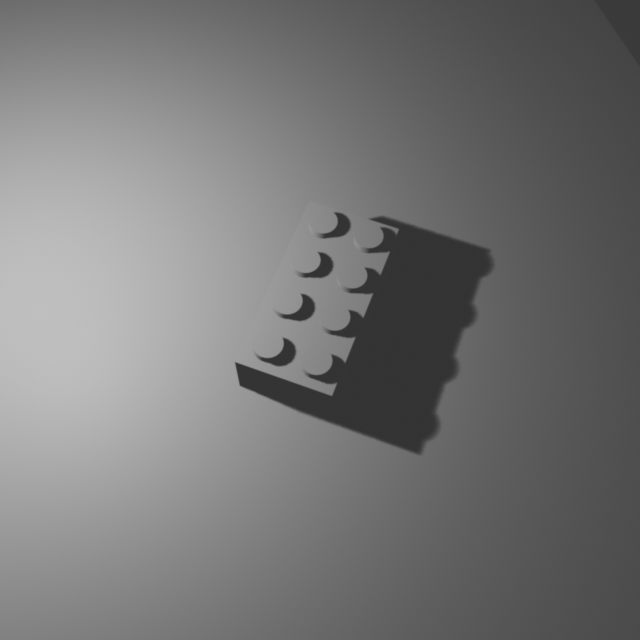lego_2x4: (234, 195, 400, 419)
